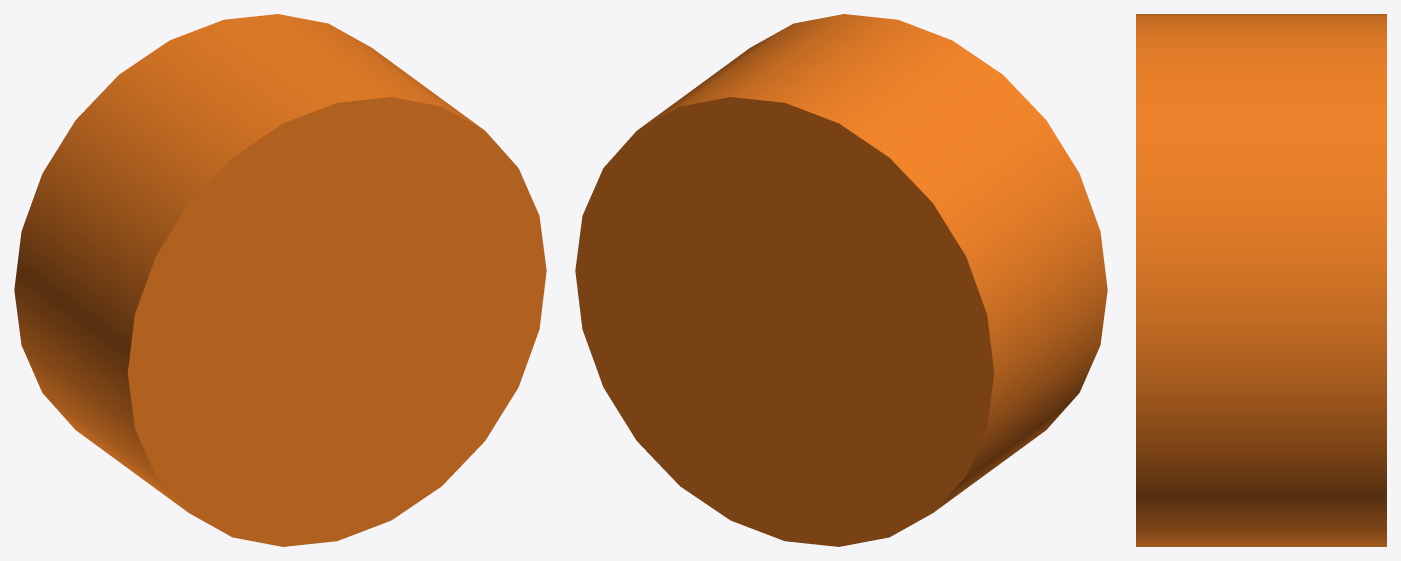
3 renders of one model, left to right at view 1: azimuth 30°, elevation 25°; view 2: azimuth 150°, elevation 25°; view 3: azimuth 270°, elevation 25°, orthographic. The views are drawn at different scales.
Parts seen in each view (by area): view 1: gripper_frame; view 2: gripper_frame; view 3: gripper_frame.
Part boxes in pixels (x1,y1,x2,y2): gripper_frame: (14, 14, 546, 546); gripper_frame: (575, 14, 1107, 546); gripper_frame: (1136, 14, 1386, 546).
Size of the model in its own units: 0.0256 by 0.0256 by 0.012.
